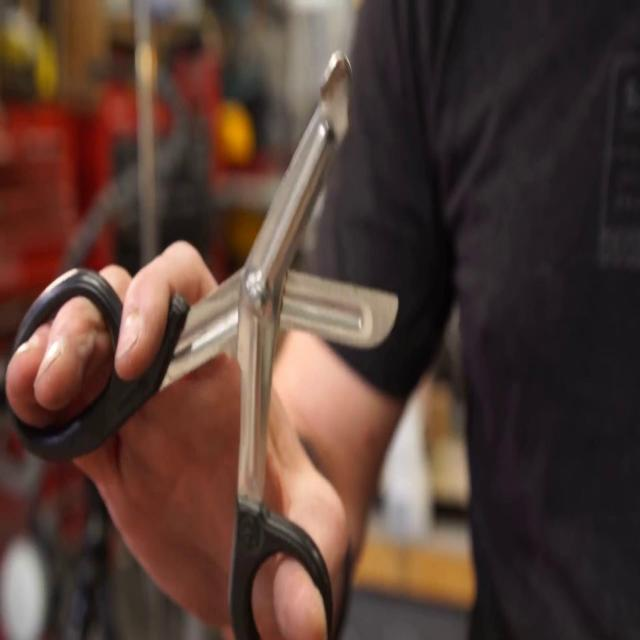scissor: (3, 51, 400, 640)
